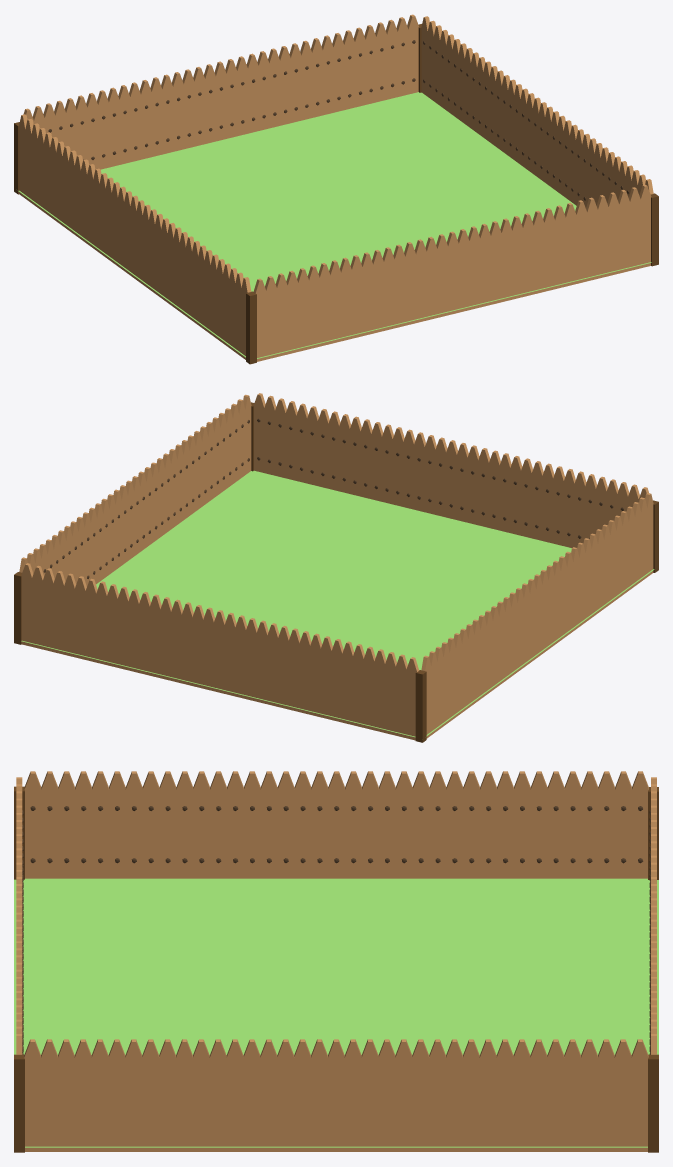
Rendered from base_territory_01.fbx.
3 renders of one model, top to bottom at view 1: azimuth 30°, elevation 25°; view 2: azimuth 150°, elevation 25°; view 3: azimuth 270°, elevation 25°, orthographic. The views are drawn at different scales.
Visible parts, largest first — view 1: grass, fance, fance.001, fance.002, fance.003, fence trunk.001, fence trunk; view 2: grass, fance.001, fance, fance.002, fance.003, fence trunk.002, fence trunk.003; view 3: grass, fance.003, fance.002, fance, fance.001, fence trunk.003, fence trunk.
Part boxes in pixels (<box>): grass: <box>18,92,651,358</box>; fance: <box>253,184,651,361</box>; fance.001: <box>23,14,418,169</box>; fance.002: <box>19,114,251,359</box>; fance.003: <box>421,16,653,208</box>; fence trunk.001: <box>246,291,256,364</box>; fence trunk: <box>651,193,658,266</box>; grass: <box>21,470,654,737</box>; fance.001: <box>21,563,419,740</box>; fance: <box>253,393,648,547</box>; fance.002: <box>421,493,653,738</box>; fance.003: <box>19,394,251,586</box>; fence trunk.002: <box>415,670,426,742</box>; fence trunk.003: <box>14,572,21,644</box>; grass: <box>14,878,658,1147</box>; fance.003: <box>24,1039,648,1151</box>; fance.002: <box>24,771,648,878</box>; fance: <box>16,777,23,1054</box>; fance.001: <box>649,777,656,1054</box>; fence trunk.003: <box>648,1054,658,1152</box>; fence trunk: <box>14,1054,24,1152</box>.
Bounding box in the file's own units: 2003 × 377 × 2002.
